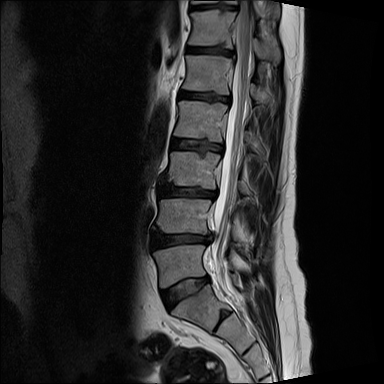Degenerative Disc Disease (DDD): (181, 39, 239, 61), (186, 2, 241, 16)
Lumbar Disc Bulge (LDB): (150, 267, 216, 319), (140, 224, 219, 256), (148, 175, 223, 206), (161, 132, 229, 160)
Normal IVD: (171, 85, 235, 110)
Spinal Stenosis (SS): (199, 221, 223, 253), (203, 177, 225, 207), (195, 262, 214, 295), (210, 135, 232, 163)
